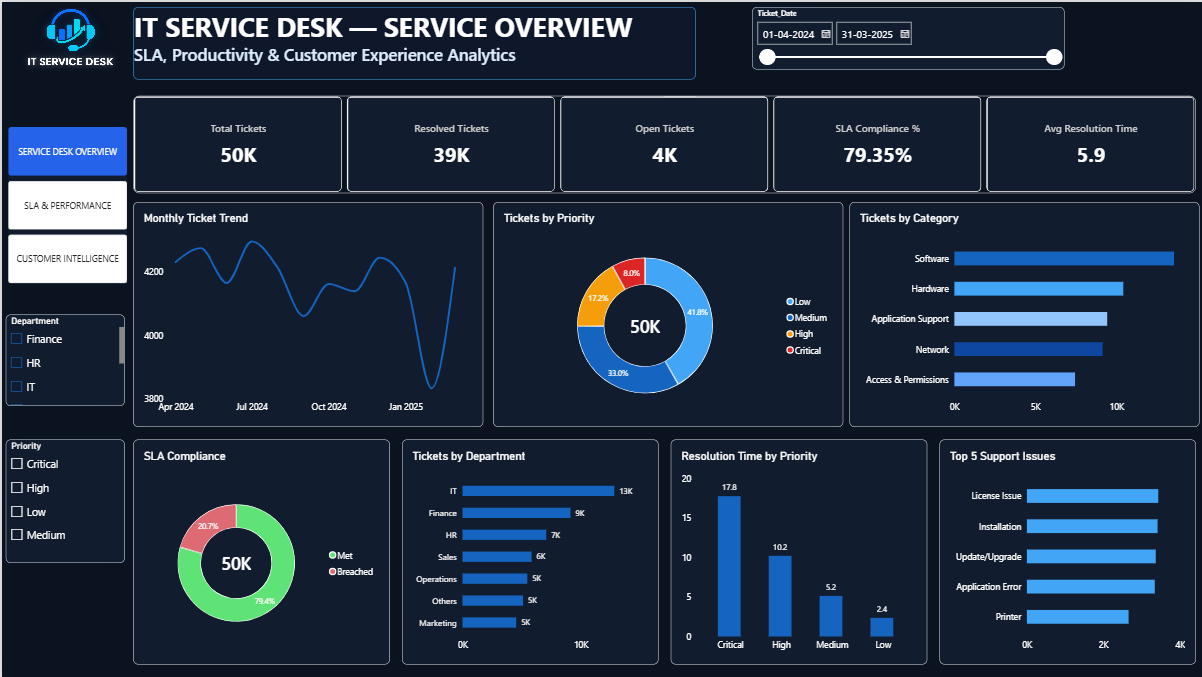

The dashboard page shown, as its layout file describes it:
{"tool":"powerbi","page":{"name":"SERVICE DESK OVERVIEW","canvas":[1920,1080],"ordinal":0},"visuals":[{"type":"cardVisual","fields":{"Data":["Tickets.Total Tickets","Tickets.Resolved Tickets","Tickets.Open Tickets","Tickets.SLA Compliance %","Tickets.Avg Resolution Time"]},"box":[210,150,1700,155.6],"z":0},{"type":"lineChart","title":"Monthly Ticket Trend","fields":{"Y":["Tickets.Total Tickets"],"Category":["Tickets.Month"]},"box":[210,320,560,360],"z":3000},{"type":"donutChart","title":"Tickets by Priority","fields":{"Category":["Tickets.Priority"],"Y":["Tickets.Total Tickets"]},"box":[785.6,320,560,360],"z":4000},{"type":"clusteredBarChart","title":"Tickets by Category","fields":{"Category":["Tickets.Category"],"Y":["Tickets.Total Tickets"]},"box":[1355,320,560,360],"z":5000},{"type":"donutChart","title":"SLA Compliance","fields":{"Category":["Tickets.SLA_Status"],"Y":["Tickets.Total Tickets"]},"box":[210,700,410,360],"z":6000},{"type":"clusteredBarChart","title":"Tickets by Department","fields":{"Category":["Tickets.Department"],"Y":["Tickets.Total Tickets"]},"box":[640,700,410,360],"z":7000},{"type":"clusteredColumnChart","title":"Resolution Time by Priority","fields":{"Y":["Tickets.Avg Resolution Time"],"Category":["Tickets.Priority"]},"box":[1070,700,410,360],"z":8000},{"type":"barChart","title":"Top 5 Support Issues","fields":{"Category":["Tickets.Sub_Category"],"Y":["Tickets.Total Tickets"]},"box":[1500,700,410,360],"z":9000},{"type":"slicer","fields":{"Values":["Tickets.Ticket_Date"]},"box":[1200,7,500,100],"z":10000},{"type":"slicer","fields":{"Values":["Tickets.Department"]},"box":[5.7,499.1,190,146.1],"z":10001},{"type":"slicer","fields":{"Values":["Tickets.Priority"]},"box":[5.7,700.2,190,197.4],"z":10002},{"type":"textbox","box":[210,7.6,900,115.8],"z":10003},{"type":"pageNavigator","box":[10,200,190,250],"z":10004},{"type":"image","box":[10,10,200,100],"z":10005}]}

Visuals, with their boxes in screenshot pixels (x1, y1, x2, y2), scaled from the page's 1920x1080 canvas onto the 1202x677 screenshot:
cardVisual - Tickets.Total Tickets x Tickets.Resolved Tickets: {"left": 131, "top": 94, "right": 1196, "bottom": 192}
"Monthly Ticket Trend" lineChart: {"left": 131, "top": 201, "right": 482, "bottom": 426}
"Tickets by Priority" donutChart: {"left": 492, "top": 201, "right": 842, "bottom": 426}
"Tickets by Category" clusteredBarChart: {"left": 848, "top": 201, "right": 1199, "bottom": 426}
"SLA Compliance" donutChart: {"left": 131, "top": 439, "right": 388, "bottom": 664}
"Tickets by Department" clusteredBarChart: {"left": 401, "top": 439, "right": 657, "bottom": 664}
"Resolution Time by Priority" clusteredColumnChart: {"left": 670, "top": 439, "right": 927, "bottom": 664}
"Top 5 Support Issues" barChart: {"left": 939, "top": 439, "right": 1196, "bottom": 664}
slicer - Tickets.Ticket_Date: {"left": 751, "top": 4, "right": 1064, "bottom": 67}
slicer - Tickets.Department: {"left": 4, "top": 313, "right": 123, "bottom": 404}
slicer - Tickets.Priority: {"left": 4, "top": 439, "right": 123, "bottom": 563}
textbox: {"left": 131, "top": 5, "right": 695, "bottom": 77}
pageNavigator: {"left": 6, "top": 125, "right": 125, "bottom": 282}
image: {"left": 6, "top": 6, "right": 131, "bottom": 69}
